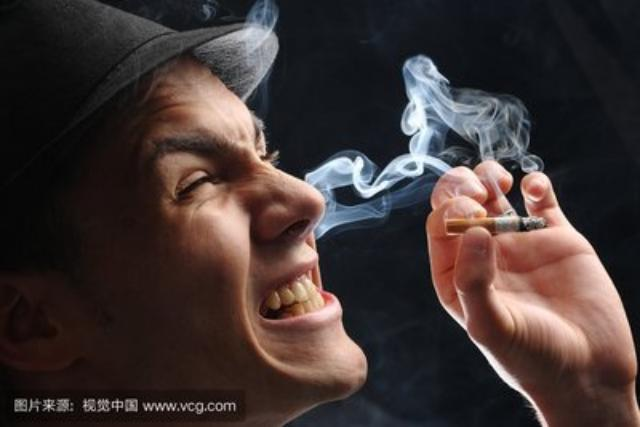SafeDriving: (166, 152, 234, 214)
Smoking: (442, 212, 552, 232)
